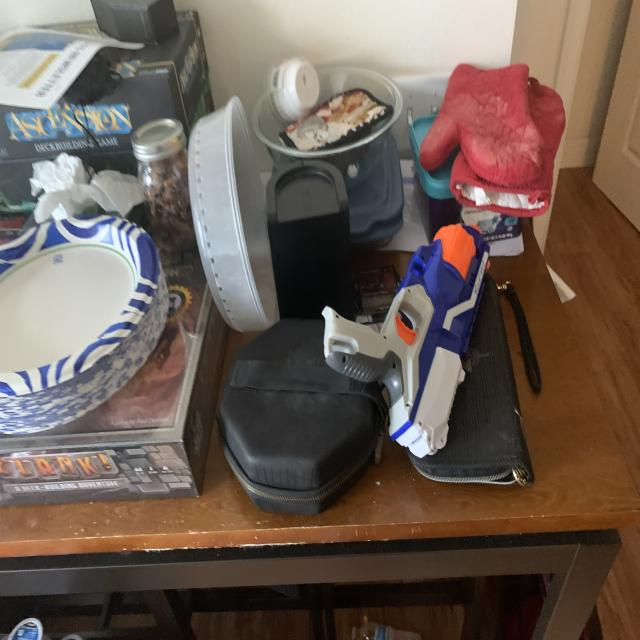nerf-maverik: (309, 204, 498, 471)
